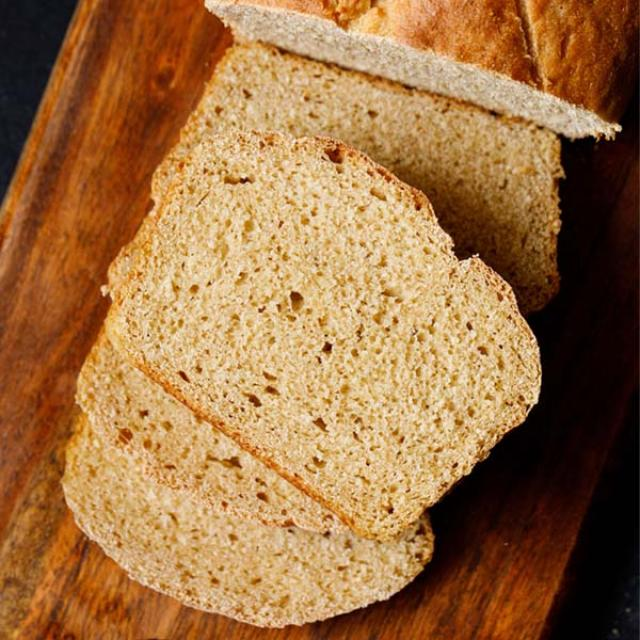Bread: (55, 0, 640, 628), (110, 118, 550, 556)
